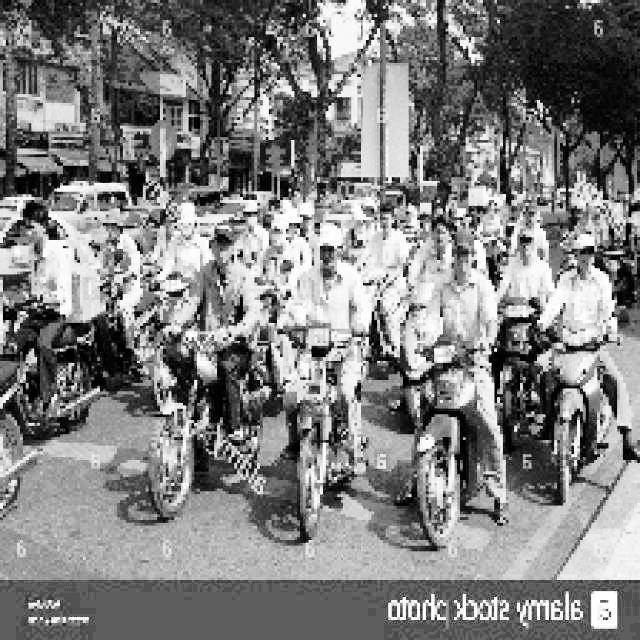Bike: (150, 312, 258, 503), (276, 305, 367, 523), (416, 315, 492, 543), (552, 305, 621, 483), (490, 282, 554, 446)
